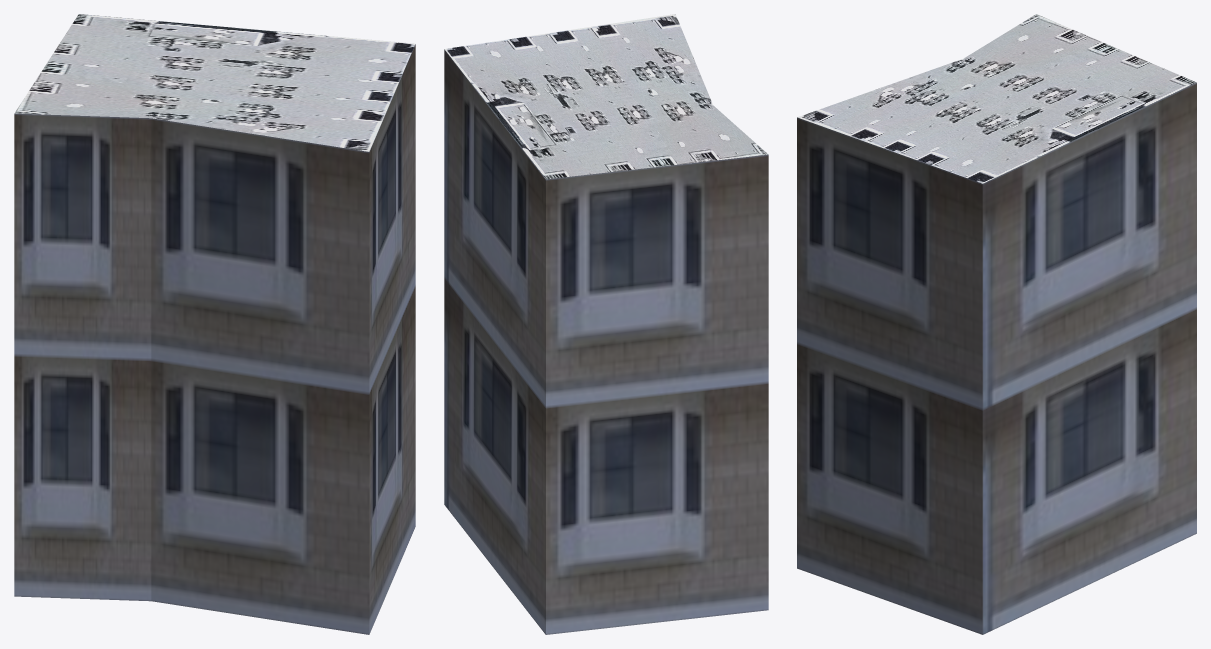
Rendered from ResTex__3677.fbx.
The picture shows the model from 3 angles, left to right: view 1: azimuth 30°, elevation 25°; view 2: azimuth 150°, elevation 25°; view 3: azimuth 270°, elevation 25°; orthographic projection. The views are drawn at different scales.
Visible parts, largest first — view 1: CityEngineMaterial_3_m, CityEngineMaterial_m; view 2: CityEngineMaterial_3_m, CityEngineMaterial_m; view 3: CityEngineMaterial_3_m, CityEngineMaterial_m.
Boxes of the visible parts, left/top/right/bottom form: CityEngineMaterial_3_m: left=14, top=44, right=415, bottom=634; CityEngineMaterial_m: left=14, top=14, right=415, bottom=151; CityEngineMaterial_3_m: left=444, top=49, right=768, bottom=634; CityEngineMaterial_m: left=444, top=14, right=768, bottom=179; CityEngineMaterial_3_m: left=797, top=82, right=1196, bottom=634; CityEngineMaterial_m: left=797, top=14, right=1196, bottom=183.
Bounding box in the file's own units: 4.84 × 6 × 4.82.
Materials: 2 (2 with a texture image).
